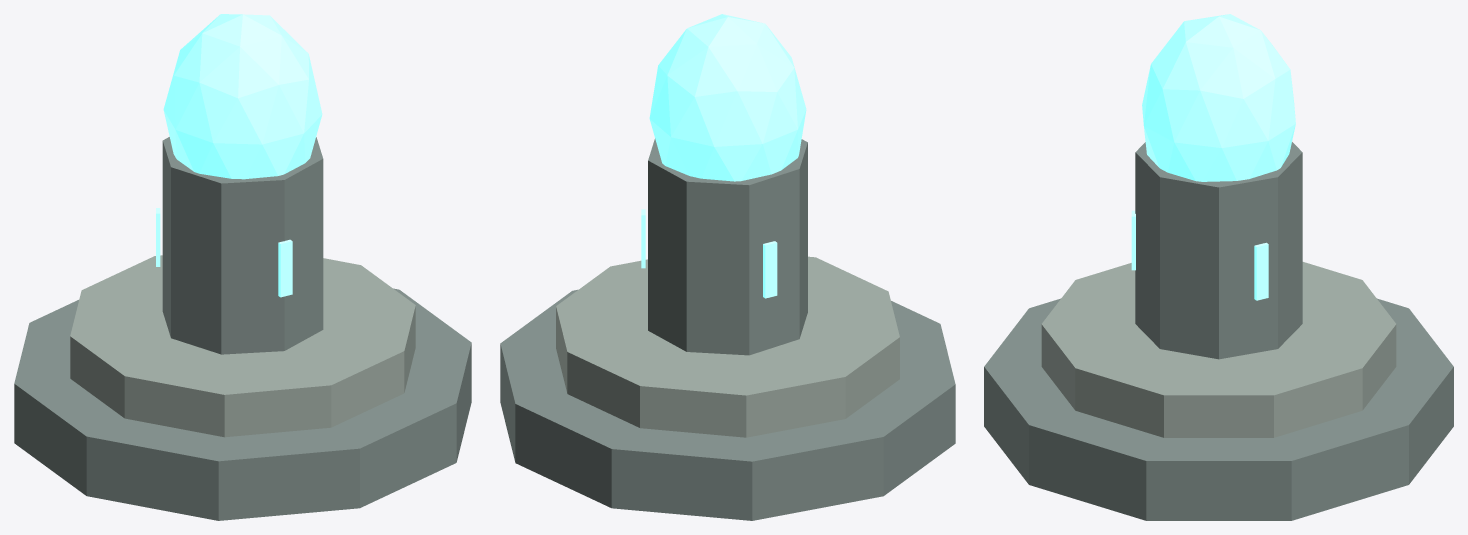
The model's file is stylized_shrine.glb.
3 views of the same model, side by side, from view 1: azimuth 30°, elevation 25°; view 2: azimuth 150°, elevation 25°; view 3: azimuth 270°, elevation 25° (orthographic).
Parts seen in each view (by area): view 1: Shrine_Base, Shrine_Step, Shrine_Pillar, Shrine_Core, Shrine_Rune_01; view 2: Shrine_Base, Shrine_Step, Shrine_Pillar, Shrine_Core, Shrine_Rune_03; view 3: Shrine_Base, Shrine_Step, Shrine_Pillar, Shrine_Core, Shrine_Rune_02.
Part boxes in pixels (x1,y1,x2,y2): Shrine_Base: (14, 288, 471, 520); Shrine_Step: (70, 255, 415, 437); Shrine_Pillar: (162, 137, 323, 354); Shrine_Core: (163, 14, 322, 179); Shrine_Rune_01: (278, 239, 292, 297); Shrine_Base: (500, 289, 955, 520); Shrine_Step: (556, 256, 899, 437); Shrine_Pillar: (648, 138, 807, 355); Shrine_Core: (649, 14, 806, 181); Shrine_Rune_03: (763, 241, 777, 298); Shrine_Base: (984, 298, 1453, 520); Shrine_Step: (1041, 262, 1396, 437); Shrine_Pillar: (1135, 142, 1302, 359); Shrine_Core: (1142, 14, 1295, 181); Shrine_Rune_02: (1254, 242, 1268, 300).
Size of the model in its own units: 2.57 by 2.6 by 2.7.
